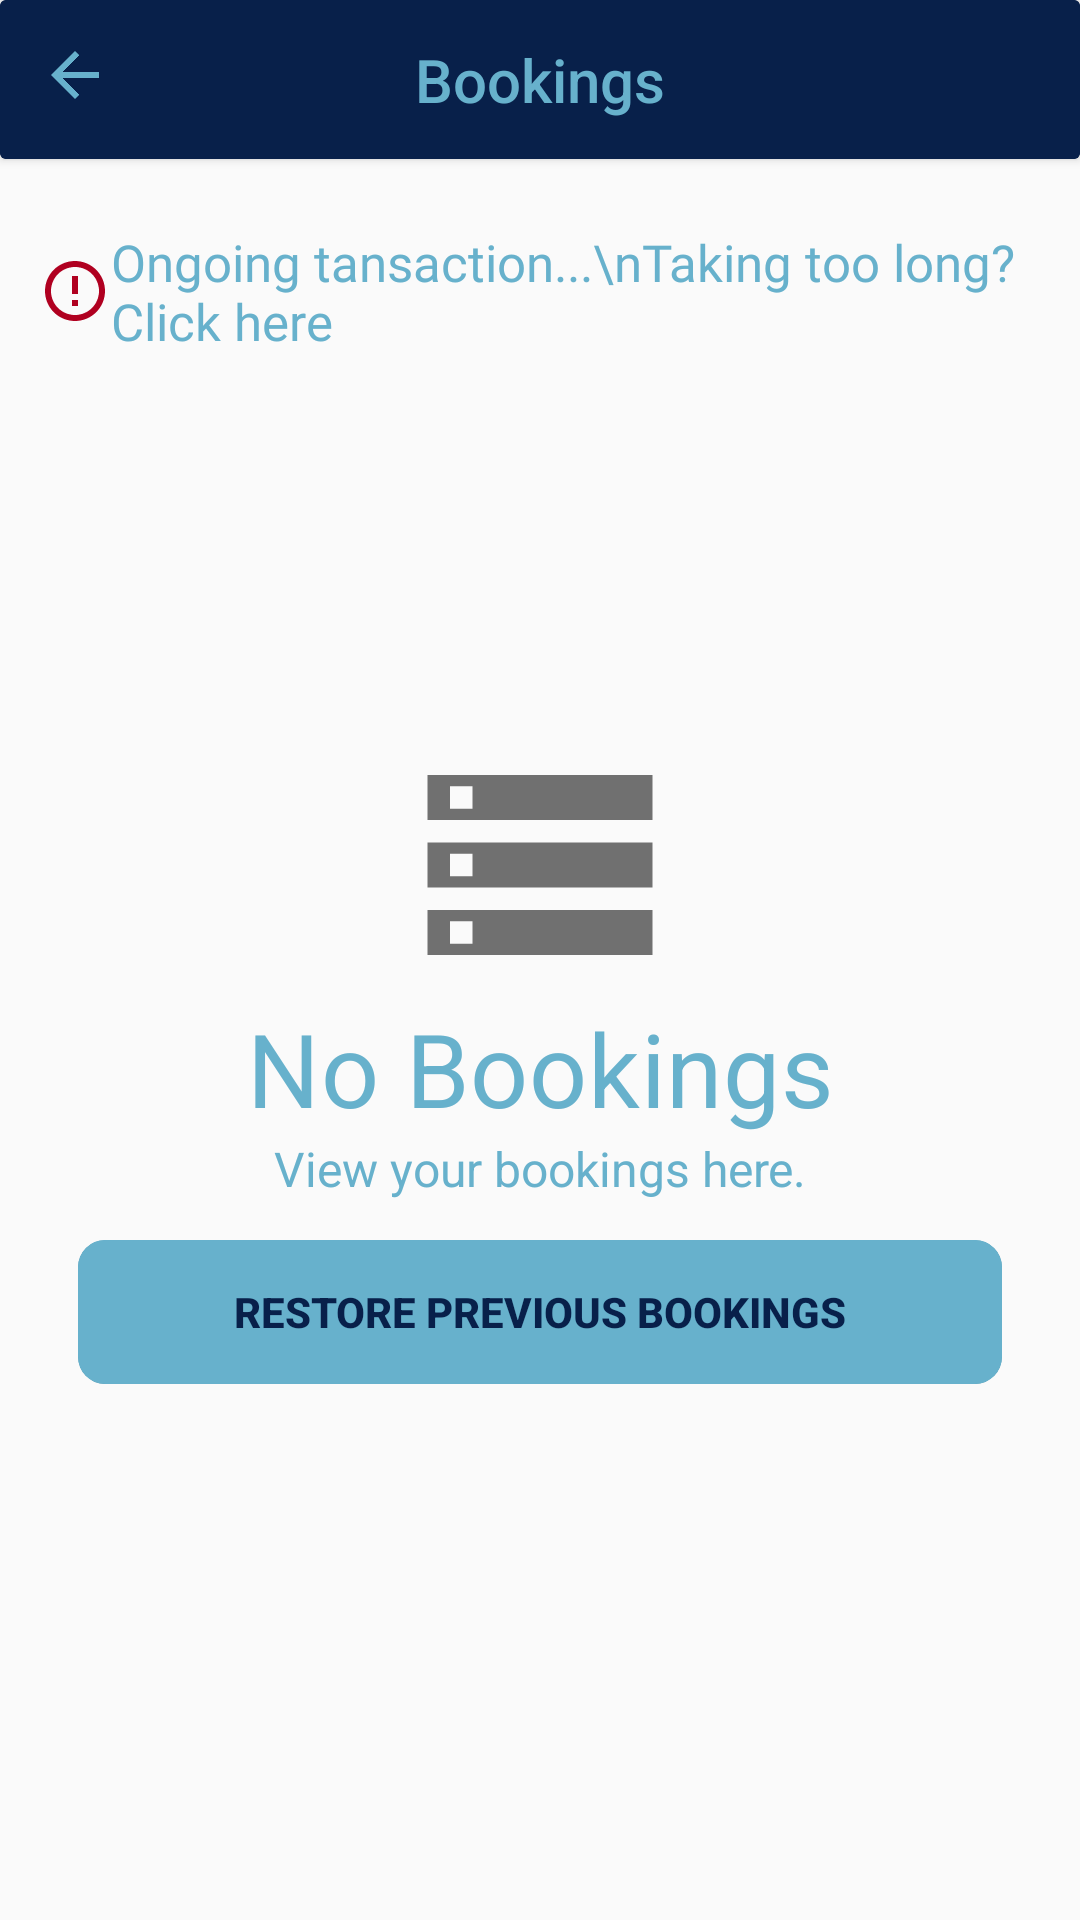

Locate icon controls on the screen. Image size 1080x1920, boxes as box=[x1, y1, x2, y2].
storage: box=[427, 775, 653, 955]
